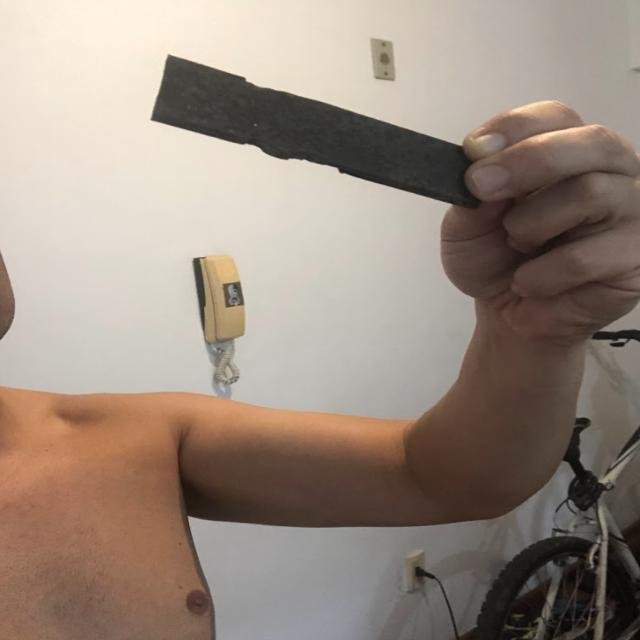Uniform Corrosion: (152, 56, 478, 207)
